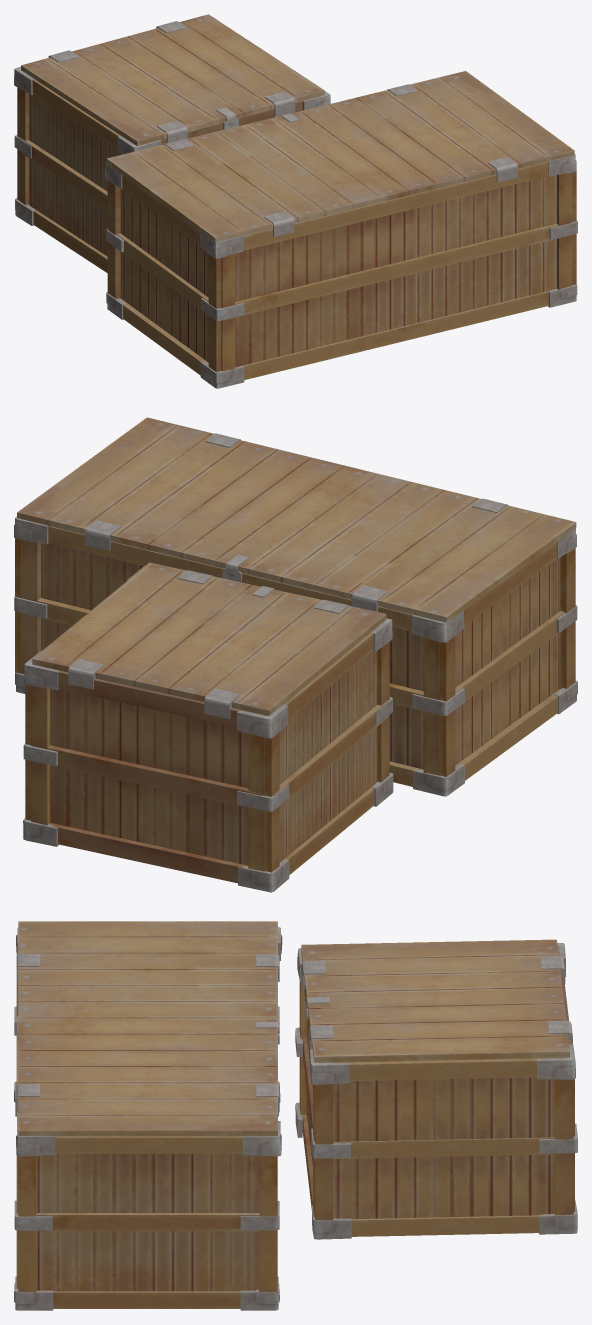
Rendered from BoxesShort.fbx.
3 views of the same model, one above another, from view 1: azimuth 30°, elevation 25°; view 2: azimuth 150°, elevation 25°; view 3: azimuth 270°, elevation 25° (orthographic). The views are drawn at different scales.
Visible parts, largest first — view 1: MAP_Warehouse_Main|SM_MERGED_SM_Crate_Large4_590|Dupli|3277; view 2: MAP_Warehouse_Main|SM_MERGED_SM_Crate_Large4_590|Dupli|3277; view 3: MAP_Warehouse_Main|SM_MERGED_SM_Crate_Large4_590|Dupli|3277.
Part boxes in pixels (x1,y1,x2,y2): MAP_Warehouse_Main|SM_MERGED_SM_Crate_Large4_590|Dupli|3277: [14, 14, 577, 388]; MAP_Warehouse_Main|SM_MERGED_SM_Crate_Large4_590|Dupli|3277: [14, 417, 577, 892]; MAP_Warehouse_Main|SM_MERGED_SM_Crate_Large4_590|Dupli|3277: [14, 921, 577, 1310].
Size of the model in its own units: 240 by 95.64 by 271.
1 material, 1 textured.
